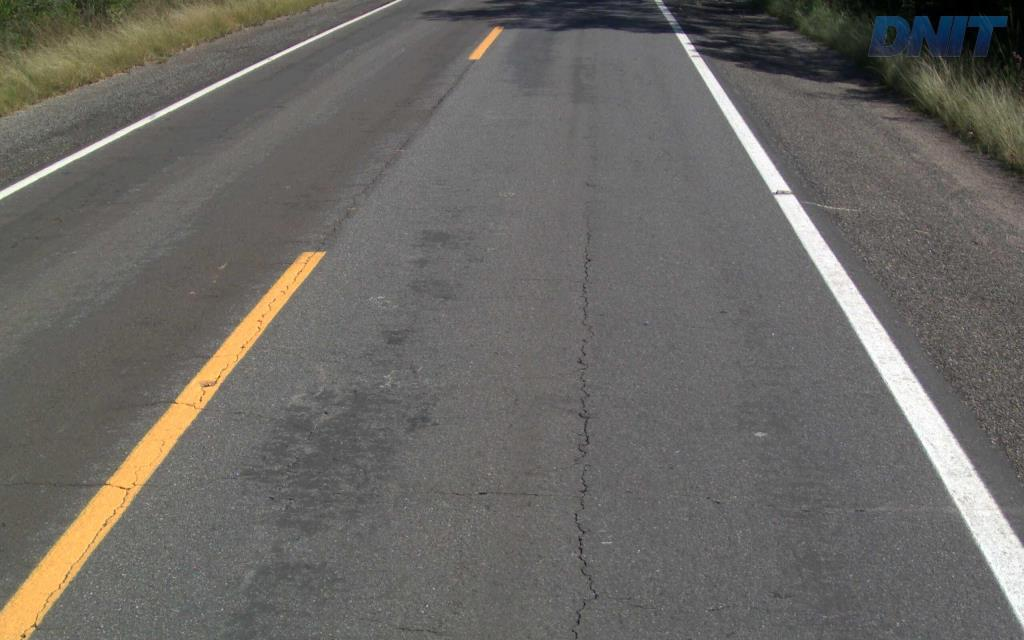crack: (575, 535, 599, 625)
